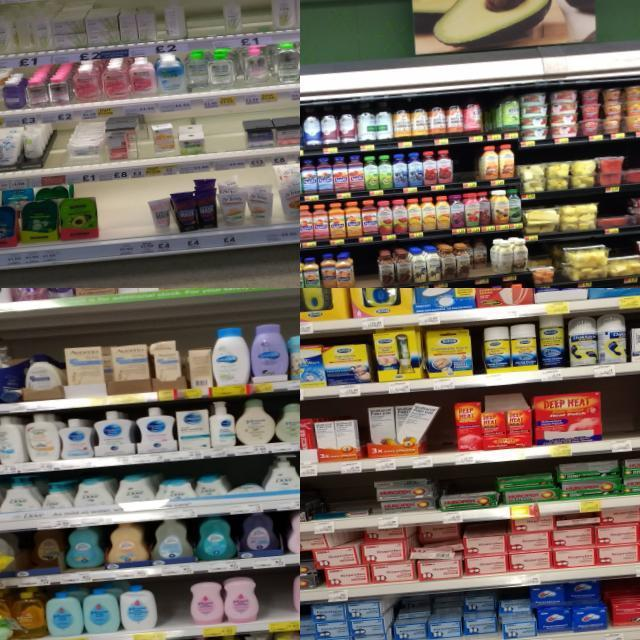Imprecise: (302, 530, 360, 589), (410, 520, 464, 580), (366, 526, 416, 582), (396, 402, 444, 455), (14, 528, 65, 576), (462, 592, 498, 640), (469, 235, 494, 278)
